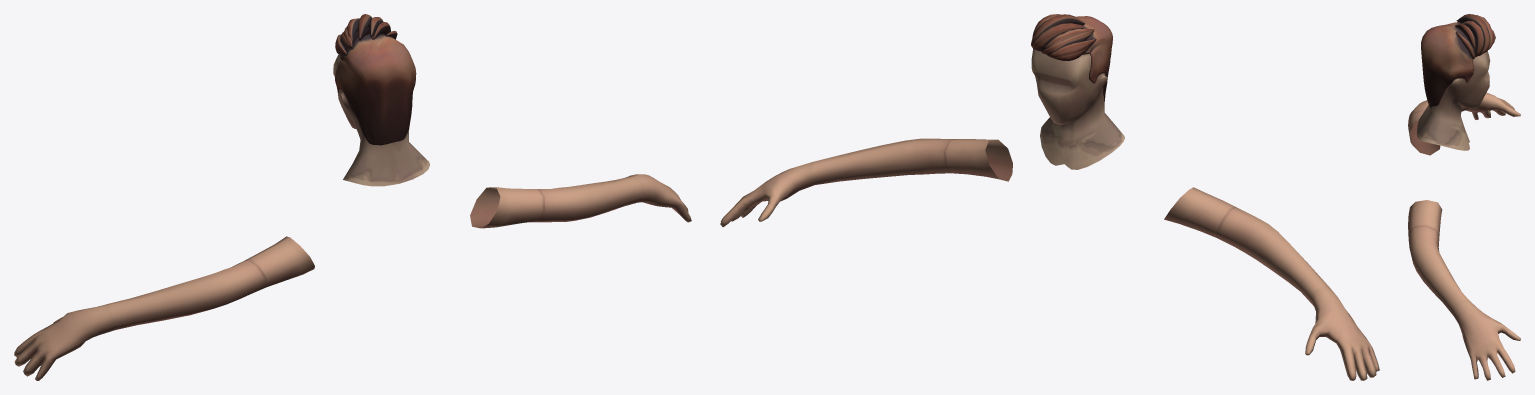
File: body_main_char.fbx
3 renders of one model, left to right at view 1: azimuth 30°, elevation 25°; view 2: azimuth 150°, elevation 25°; view 3: azimuth 270°, elevation 25°, orthographic. The views are drawn at different scales.
Visible parts, largest first — view 1: body; view 2: body; view 3: body.
Boxes of the visible parts, x1,y1,x2,y2 form: body: (14, 14, 691, 380); body: (720, 14, 1379, 380); body: (1408, 14, 1520, 380).
Bounding box in the file's own units: 1.8 × 0.3249 × 0.7428.
